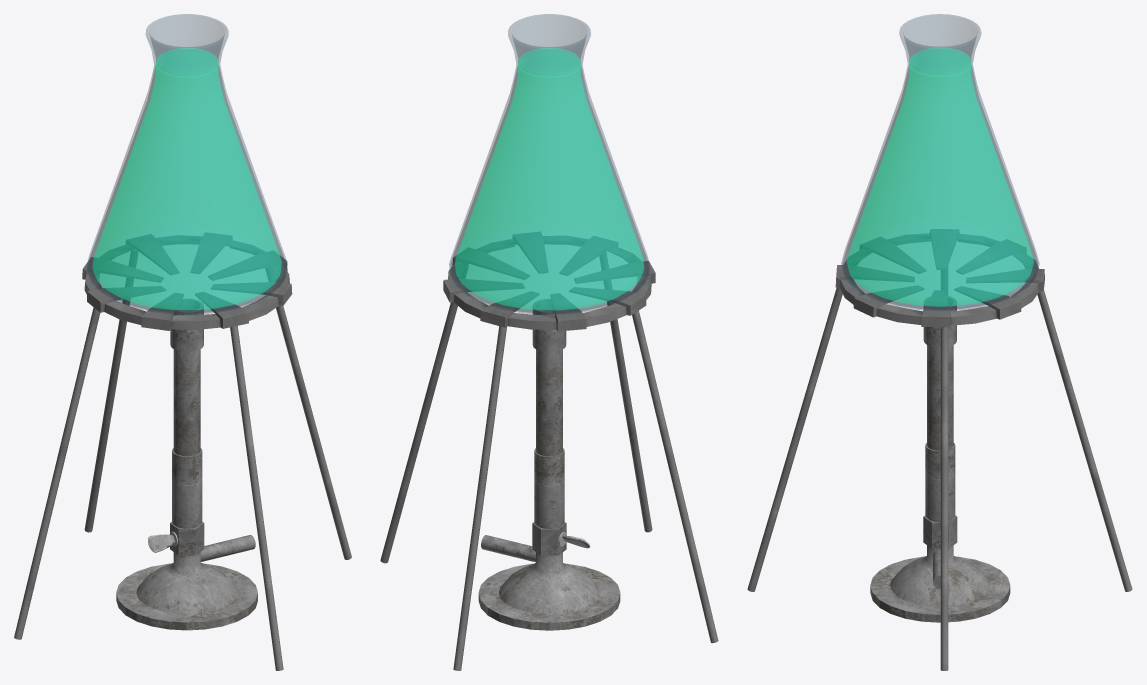
File: chemistry_apparatus_optimized.glb
3 renders of one model, left to right at view 1: azimuth 30°, elevation 25°; view 2: azimuth 150°, elevation 25°; view 3: azimuth 270°, elevation 25°, orthographic.
Parts seen in each view (by area): view 1: Circle001, defaultMaterial, Cylinder002, Cylinder001, Cylinder007, Cylinder004, Cylinder005, Cylinder006, Cylinder003; view 2: Circle001, defaultMaterial, Cylinder002, Cylinder001, Cylinder006, Cylinder004, Cylinder005, Cylinder007, Cylinder003; view 3: Circle001, defaultMaterial, Cylinder002, Cylinder001, Cylinder005, Cylinder007, Cylinder006, Cylinder003.
Part boxes in pixels (x1,y1,x2,y2): Circle001: (87,14,287,314); defaultMaterial: (93,48,281,309); Cylinder002: (116,299,257,630); Cylinder001: (82,233,292,330); Cylinder007: (230,326,283,670); Cylinder004: (14,307,100,639); Cylinder005: (265,267,351,559); Cylinder006: (84,249,137,532); Cylinder003: (170,522,204,555); Circle001: (449,14,649,314); defaultMaterial: (455,48,643,309); Cylinder002: (478,299,620,630); Cylinder001: (443,232,655,331); Cylinder006: (453,326,506,670); Cylinder004: (632,310,718,643); Cylinder005: (380,265,468,563); Cylinder007: (600,252,652,532); Cylinder003: (532,522,566,555); Circle001: (841,14,1039,310); defaultMaterial: (847,47,1033,306); Cylinder002: (870,296,1010,622); Cylinder001: (835,229,1044,327); Cylinder005: (940,327,948,670); Cylinder007: (747,287,842,591); Cylinder006: (1037,290,1132,591); Cylinder003: (923,515,957,548).
Size of what is drawn, in the model's own units: 1.09 by 1.76 by 1.09.
Materials: 5 (5 with a texture image).
